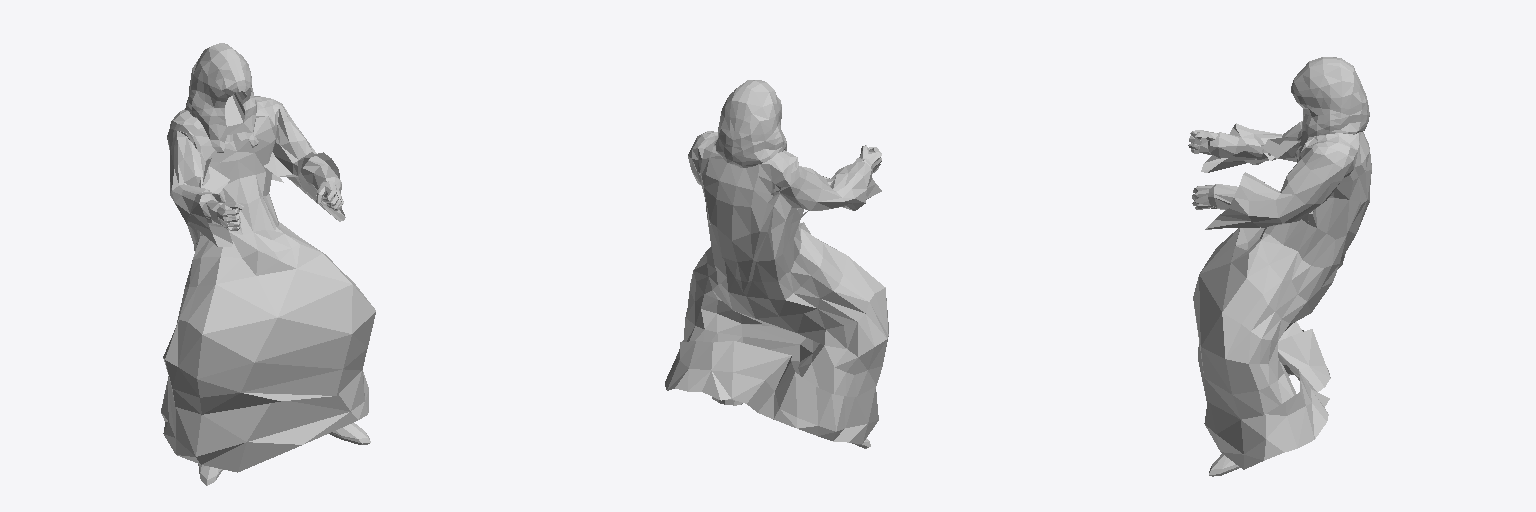
File: Rider_Animate_Grab_Glide_15.obj
3 views of the same model, side by side, from view 1: azimuth 30°, elevation 25°; view 2: azimuth 150°, elevation 25°; view 3: azimuth 270°, elevation 25° (orthographic).
Visible parts, largest first — view 1: dm_nazgulrobe_ride_241108; view 2: dm_nazgulrobe_ride_241108; view 3: dm_nazgulrobe_ride_241108.
Boxes of the visible parts, x1=… form: dm_nazgulrobe_ride_241108: x1=161, y1=43, x2=375, y2=485; dm_nazgulrobe_ride_241108: x1=665, y1=80, x2=888, y2=448; dm_nazgulrobe_ride_241108: x1=1188, y1=57, x2=1371, y2=476.
Size of the model in its own units: 0.3756 by 0.6578 by 0.284.